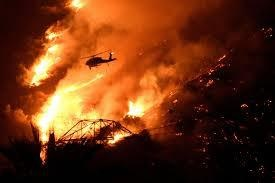fire: (22, 30, 66, 85), (123, 94, 146, 117)
